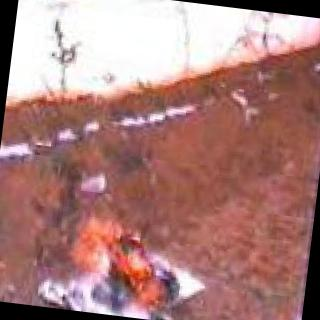fire: (46, 207, 191, 320)
